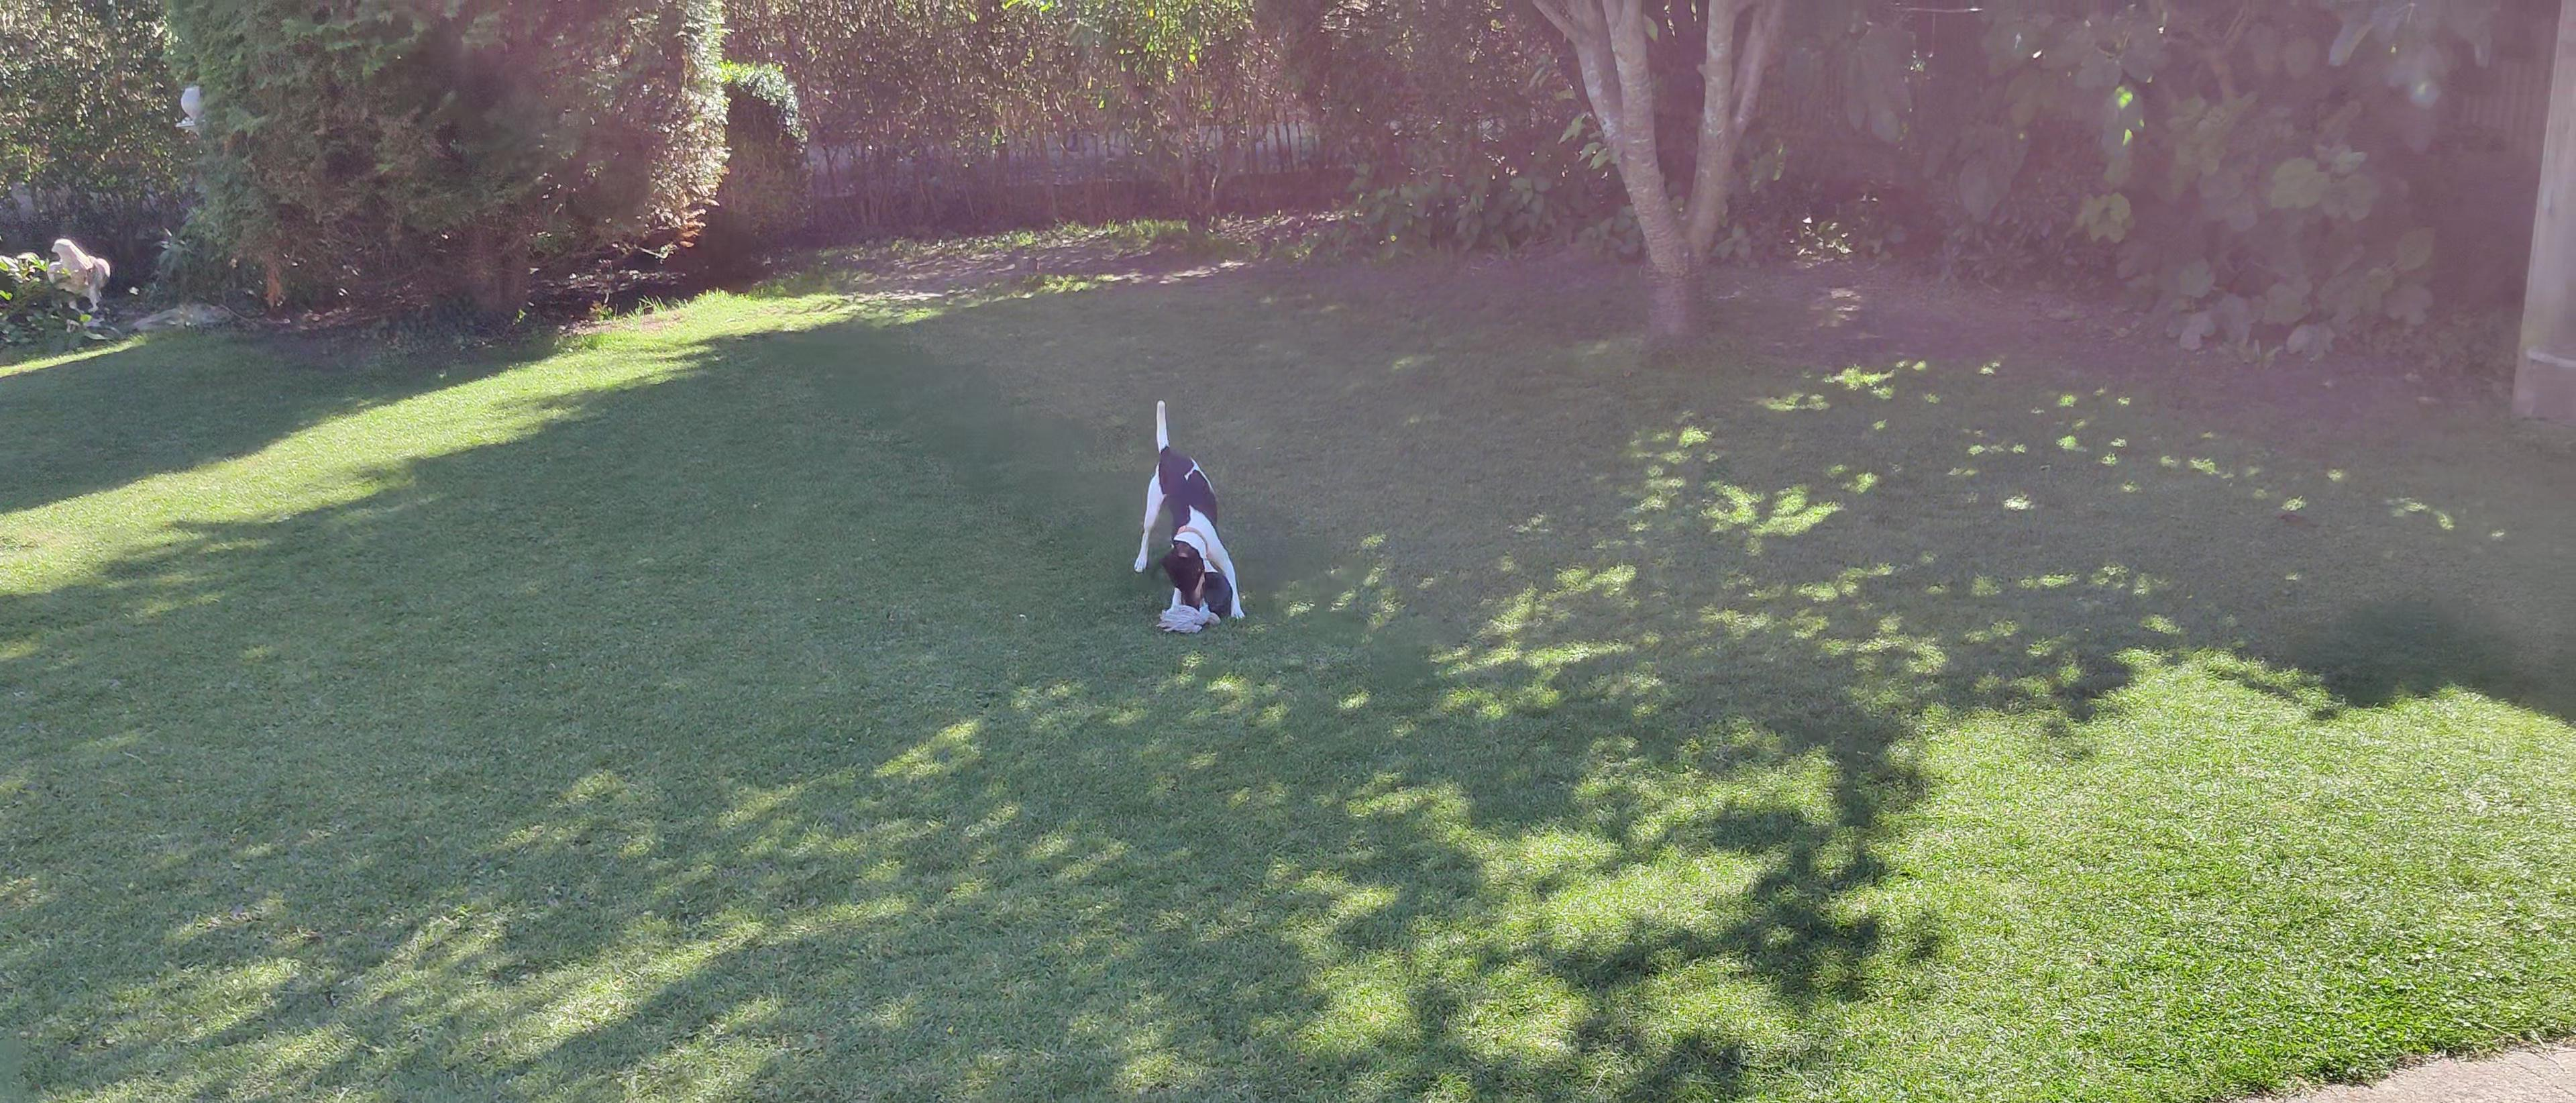Dog: (1125, 396, 1253, 626)
